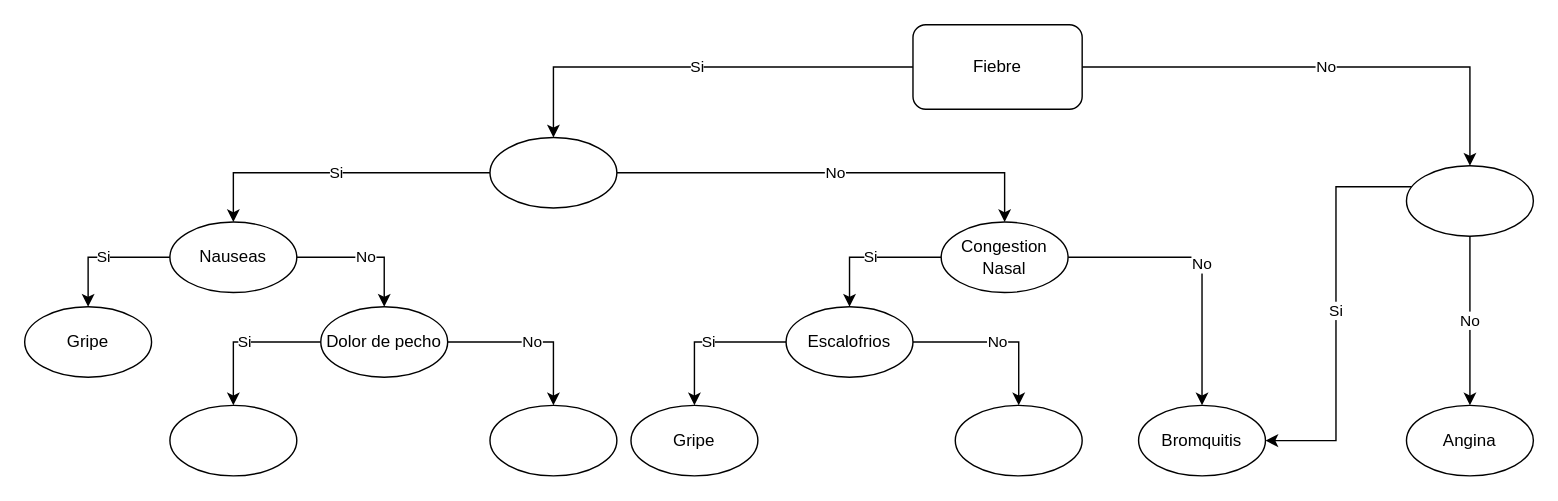
The diagram is 1558 pixels wide and 501 high, and some of its shapes have lost their labels. Each missing label, with the box of its shape:
Dolor de cabeza: (489, 136, 617, 208)
Influenza: (954, 404, 1082, 476)
Neumonia: (168, 404, 297, 476)
Resfriado: (489, 404, 617, 476)
Tos: (1405, 164, 1533, 236)
